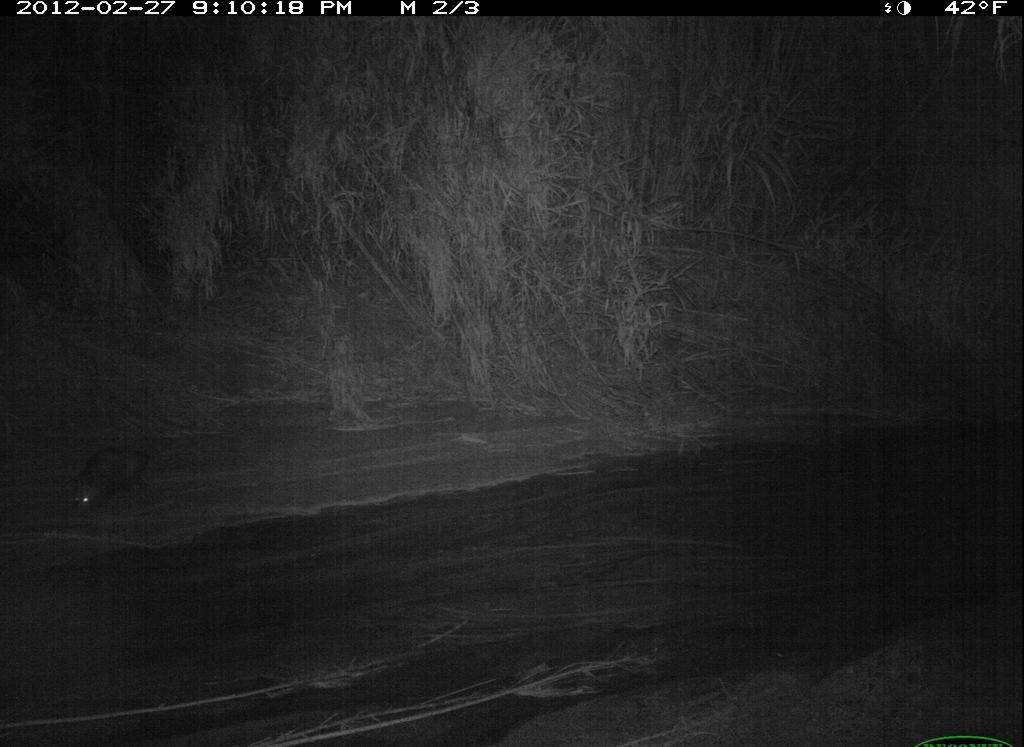opossum: (59, 437, 173, 529)
